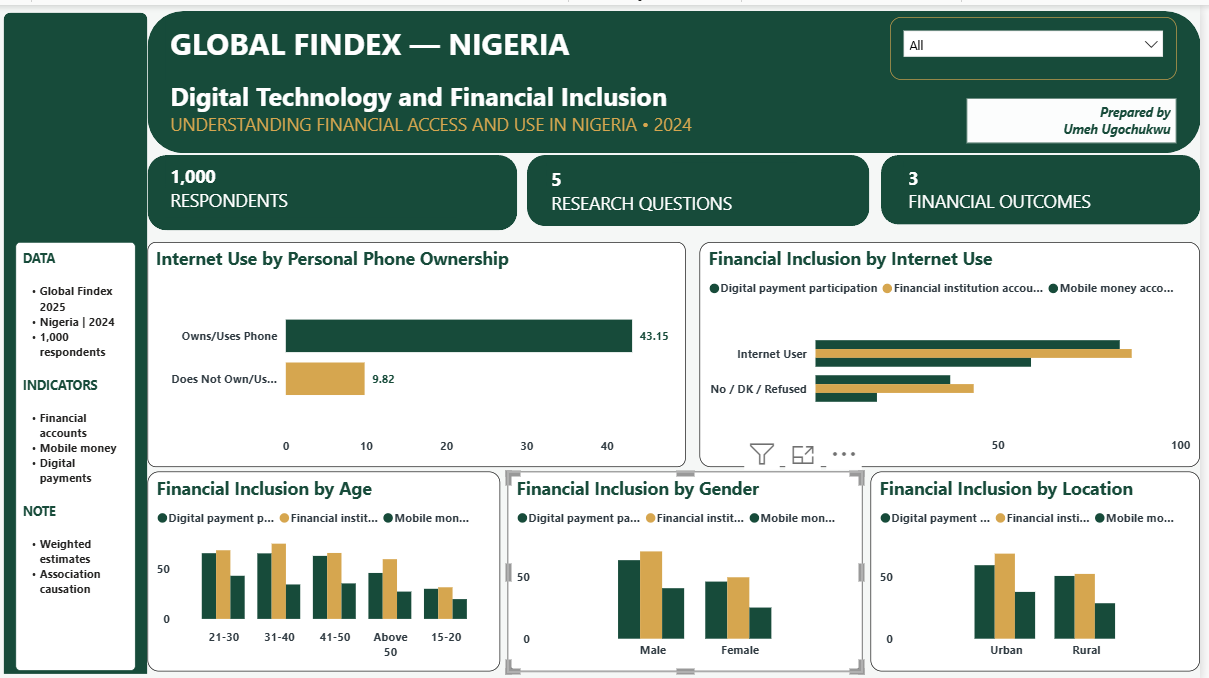

The page's visual inventory and layout, read from the dashboard file:
{"tool":"powerbi","page":{"name":"Page 1","canvas":[1280,720],"ordinal":0},"visuals":[{"type":"shape","box":[163.1,6.2,1116.9,150.8],"z":0},{"type":"textbox","box":[182.9,12.7,583.8,132],"z":1000},{"type":"shape","box":[163.1,158.5,392.3,80],"z":2000},{"type":"shape","box":[566.9,158.5,363.1,75.4],"z":3000},{"type":"shape","box":[941.5,158.5,338.5,73.8],"z":4000},{"type":"textbox","box":[183.1,164.6,309.2,61.5],"z":5000},{"type":"textbox","box":[587.7,167.7,266.2,63.1],"z":6000},{"type":"textbox","box":[966.2,166.2,289.2,63.1],"z":7000},{"type":"clusteredBarChart","title":"Internet Use by Personal Phone Ownership","fields":{"Category":["public nigeria_findex_dashboard_results.category"],"Y":["Sum(public nigeria_findex_dashboard_results.weighted_percentage)"]},"box":[163.1,250.8,570.8,238.5],"z":8000},{"type":"clusteredBarChart","title":"Financial Inclusion by Internet Use","fields":{"Category":["public nigeria_findex_dashboard_results.category"],"Y":["Sum(public nigeria_findex_dashboard_results.weighted_percentage)"],"Series":["public nigeria_findex_dashboard_results.indicator"]},"box":[749.2,250.8,530.8,238.5],"z":9000},{"type":"clusteredColumnChart","title":"Financial Inclusion by Age","fields":{"Category":["public nigeria_findex_dashboard_results.category"],"Y":["Sum(public nigeria_findex_dashboard_results.weighted_percentage)"],"Series":["public nigeria_findex_dashboard_results.indicator"]},"box":[163.1,495.4,373.8,212.3],"z":10000},{"type":"clusteredColumnChart","title":"Financial Inclusion by Gender","fields":{"Category":["public nigeria_findex_dashboard_results.category"],"Y":["Sum(public nigeria_findex_dashboard_results.weighted_percentage)"],"Series":["public nigeria_findex_dashboard_results.indicator"]},"box":[545.4,495.4,376.9,212.3],"z":11000},{"type":"clusteredColumnChart","title":"Financial Inclusion by Location","fields":{"Category":["public nigeria_findex_dashboard_results.category"],"Y":["Sum(public nigeria_findex_dashboard_results.weighted_percentage)"],"Series":["public nigeria_findex_dashboard_results.indicator"]},"box":[930.8,495.4,349.2,212.3],"z":12000},{"type":"shape","box":[11.1,8,152.7,701.5],"z":13000},{"type":"slicer","fields":{"Values":["public nigeria_findex_dashboard_results.indicator"]},"box":[951.2,12.7,303.8,66.8],"z":14000},{"type":"textbox","box":[23.9,251.3,127.2,454.9],"z":14001},{"type":"textbox","box":[1032.3,98.6,222.7,47.7],"z":14002}]}

Visuals, with their boxes in screenshot pixels (x1, y1, x2, y2), scaled from the page's 1280x720 canvas onto the 1209x678 screenshot:
shape: 154 6 1208 148
textbox: 173 12 724 136
shape: 154 149 525 225
shape: 535 149 878 220
shape: 889 149 1208 219
textbox: 173 155 465 213
textbox: 555 158 807 217
textbox: 913 157 1186 216
"Internet Use by Personal Phone Ownership" clusteredBarChart: 154 236 693 461
"Financial Inclusion by Internet Use" clusteredBarChart: 708 236 1208 461
"Financial Inclusion by Age" clusteredColumnChart: 154 467 507 666
"Financial Inclusion by Gender" clusteredColumnChart: 515 467 871 666
"Financial Inclusion by Location" clusteredColumnChart: 879 467 1208 666
shape: 10 8 155 668
slicer - public nigeria_findex_dashboard_results.indicator: 898 12 1185 75
textbox: 23 237 143 665
textbox: 975 93 1185 138
